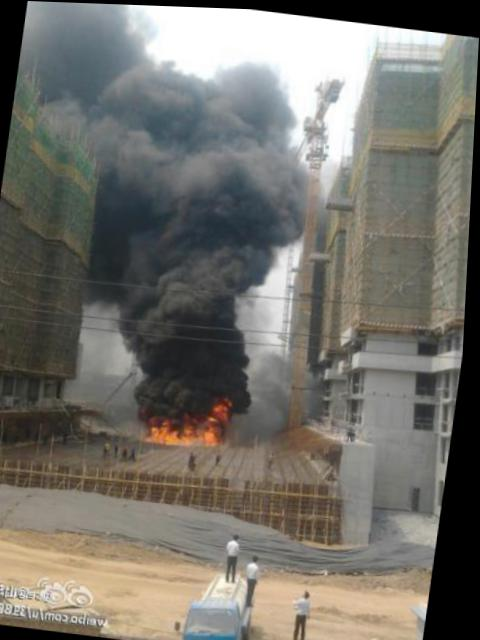fire: (153, 417, 224, 446), (220, 392, 236, 419)
